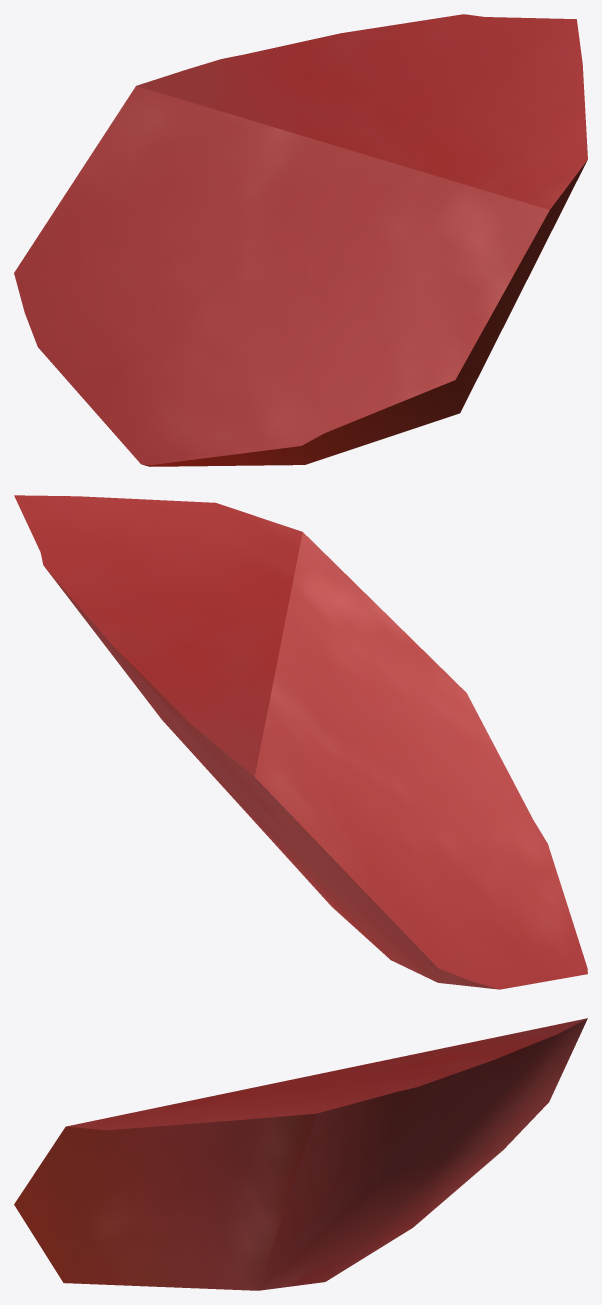
Rendered from SM_HeartPiece_14_.FBX.
3 renders of one model, top to bottom at view 1: azimuth 30°, elevation 25°; view 2: azimuth 150°, elevation 25°; view 3: azimuth 270°, elevation 25°, orthographic. The views are drawn at different scales.
Parts seen in each view (by area): view 1: SM_HeartPiece_14_; view 2: SM_HeartPiece_14_; view 3: SM_HeartPiece_14_.
Boxes of the visible parts, x1,y1,x2,y2 form: SM_HeartPiece_14_: (14,14,587,466); SM_HeartPiece_14_: (14,495,587,989); SM_HeartPiece_14_: (14,1018,587,1290).
Size of the model in its own units: 45.61 by 41.45 by 28.87.
